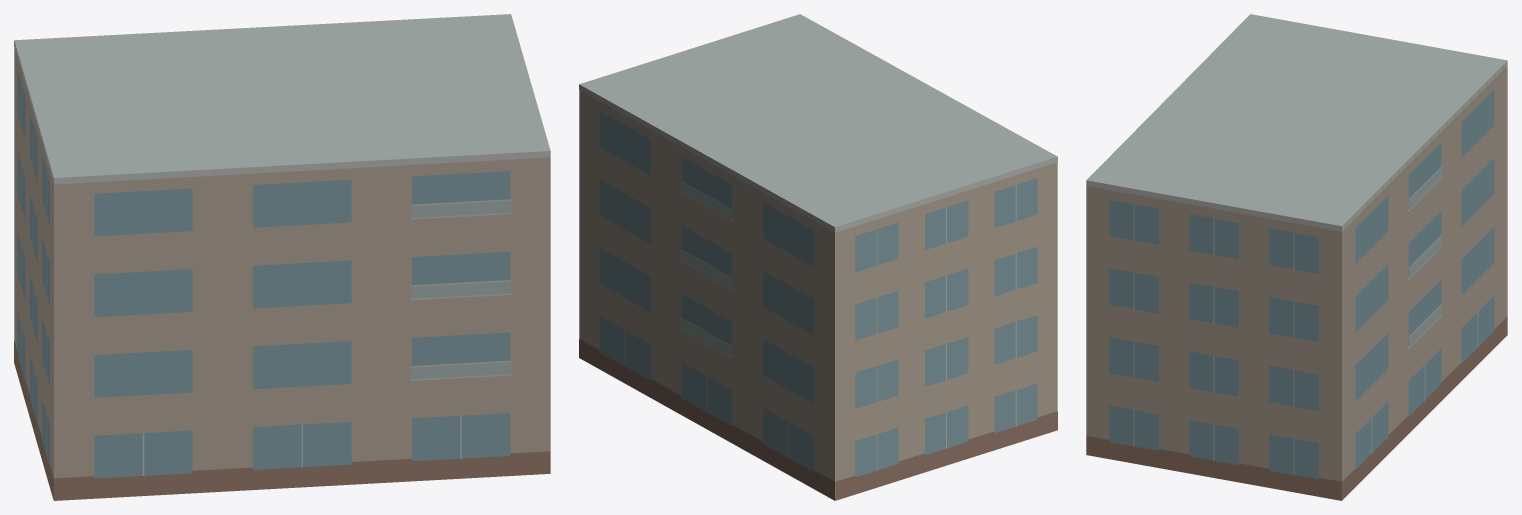
The model's file is survey-upis-32717902.glb.
The picture shows the model from 3 angles, left to right: view 1: azimuth 30°, elevation 25°; view 2: azimuth 150°, elevation 25°; view 3: azimuth 270°, elevation 25°; orthographic projection. The views are drawn at different scales.
Visible parts, largest first — view 1: survey-upis-32717902.tmp; view 2: survey-upis-32717902.tmp; view 3: survey-upis-32717902.tmp.
Part boxes in pixels (x1,y1,x2,y2): survey-upis-32717902.tmp: [14, 14, 550, 500]; survey-upis-32717902.tmp: [579, 14, 1057, 500]; survey-upis-32717902.tmp: [1086, 14, 1507, 500].
Size of the model in its own units: 20.22 by 12.2 by 16.97.
